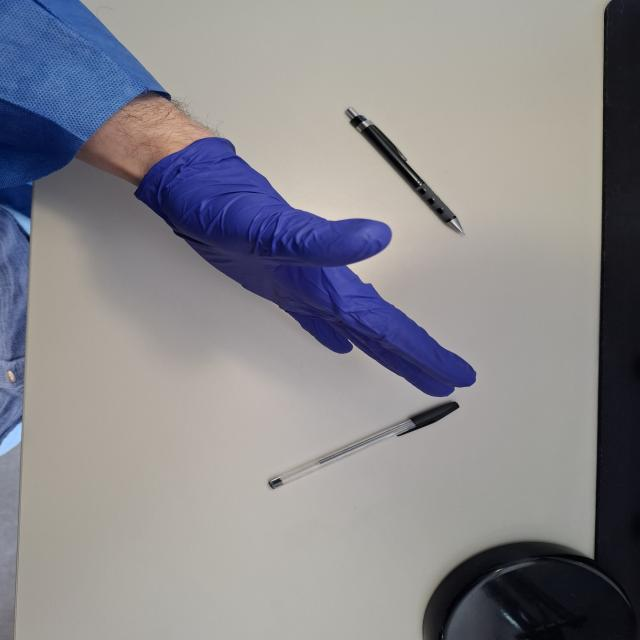glove_on: (131, 130, 481, 399)
